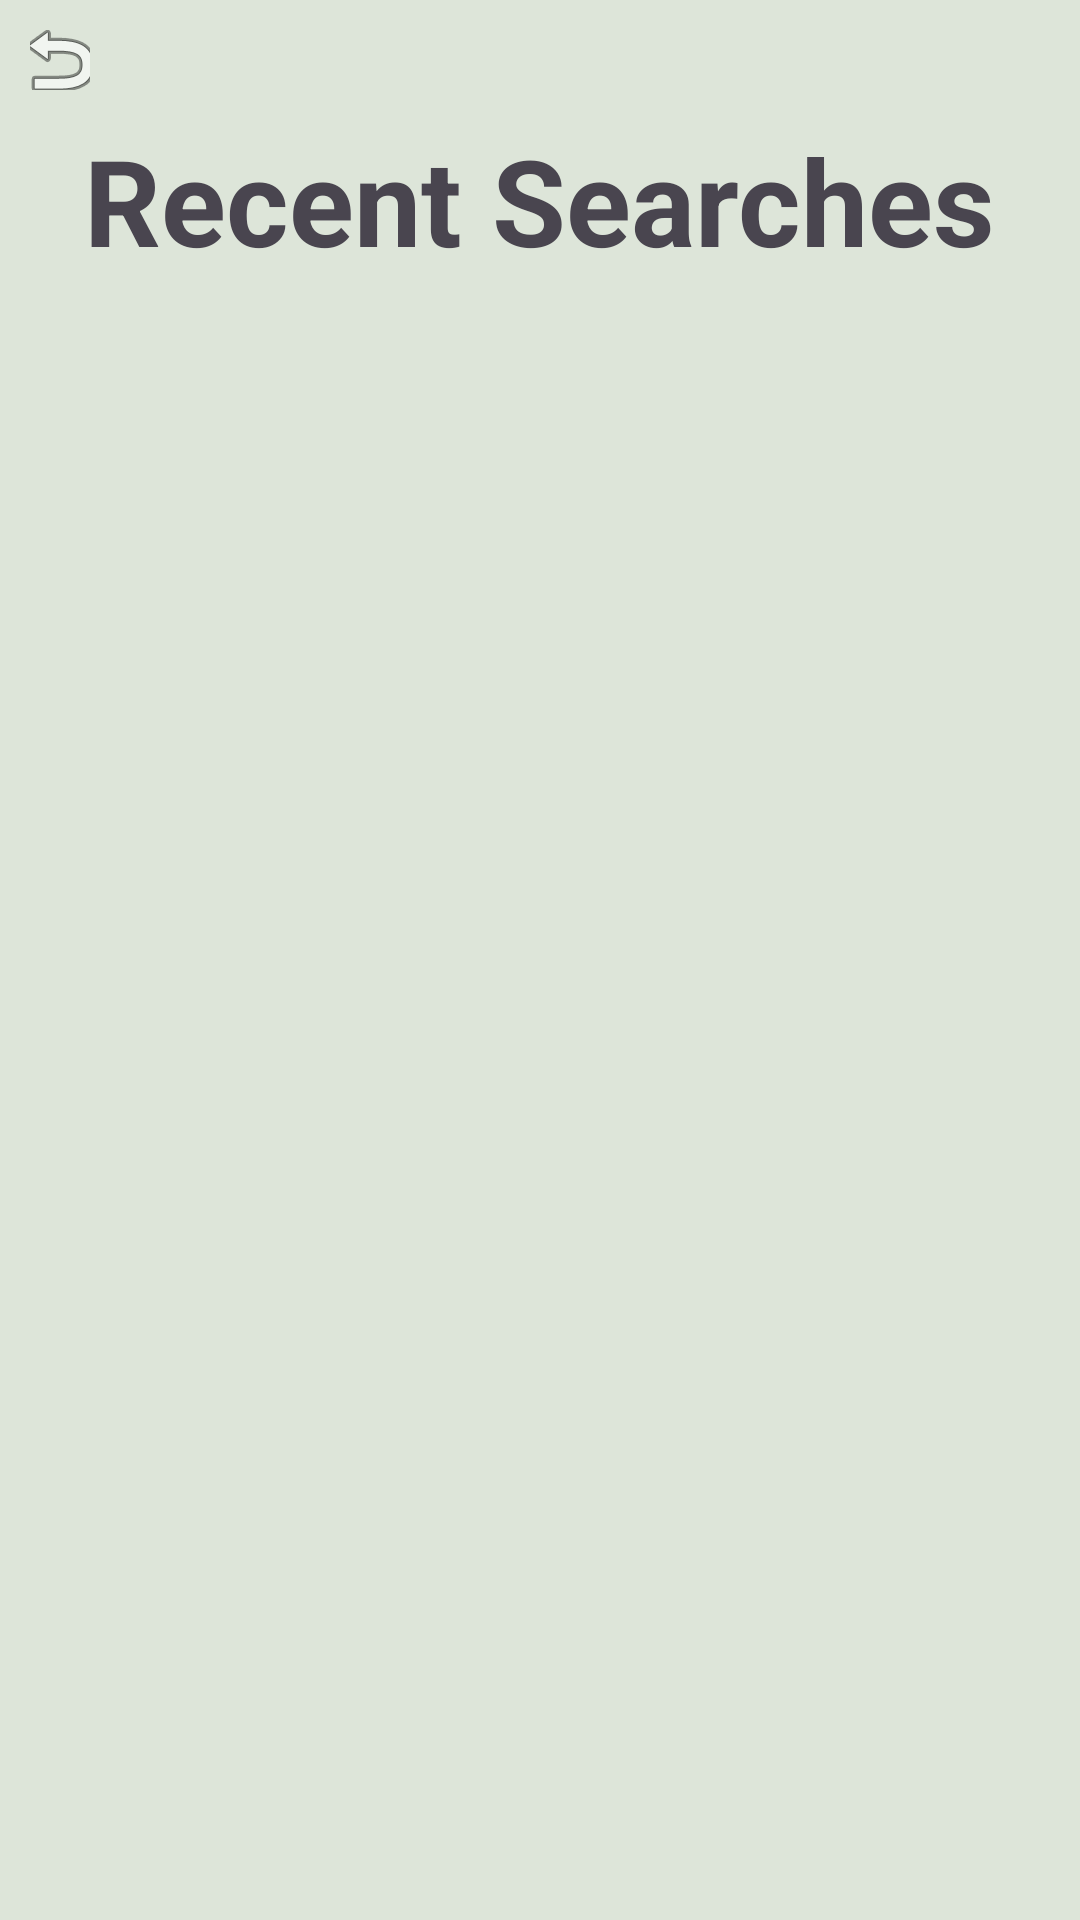

Screen size 1080 x 1920. Icon name, then its box in pixels as detection(x1, y1, x2, y2):
revert: detection(30, 30, 90, 90)
